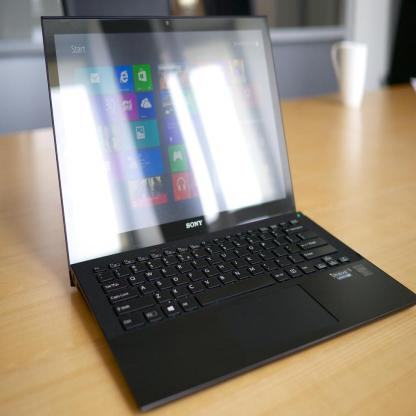board: (40, 13, 416, 411)
